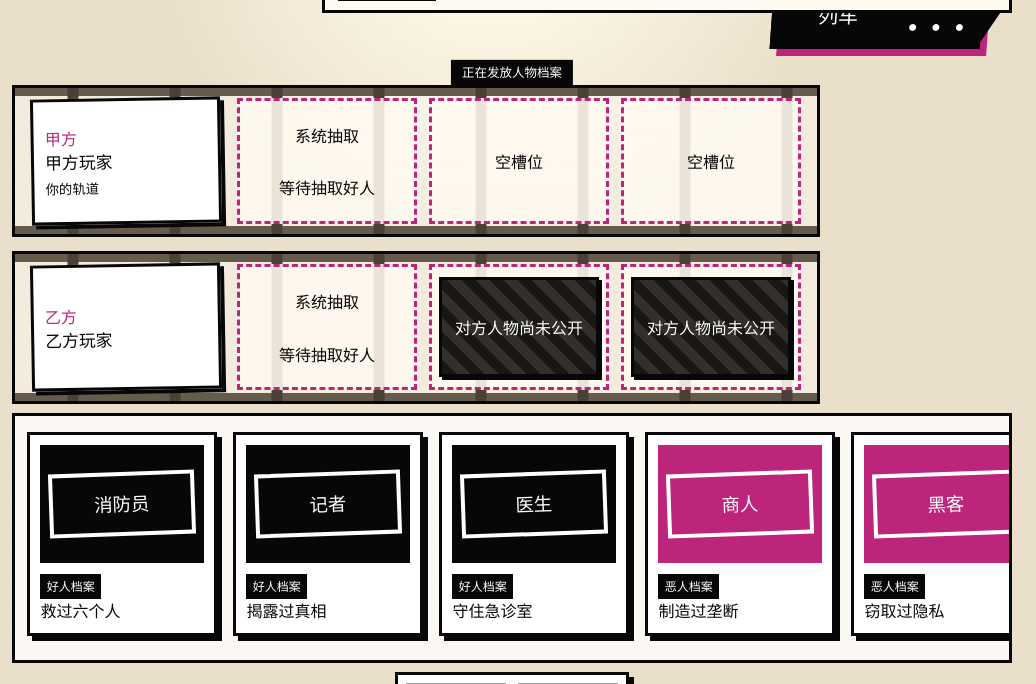
Test: selecting train stage › places a selected hand character with two clicks and exposes pressed state
The image size is (1036, 684).
(page scrolled)
Step 1. Click the button "消防员 好人档案 救过六个人" → click(122, 534), box top-left (27, 432), bottom-right (217, 636)
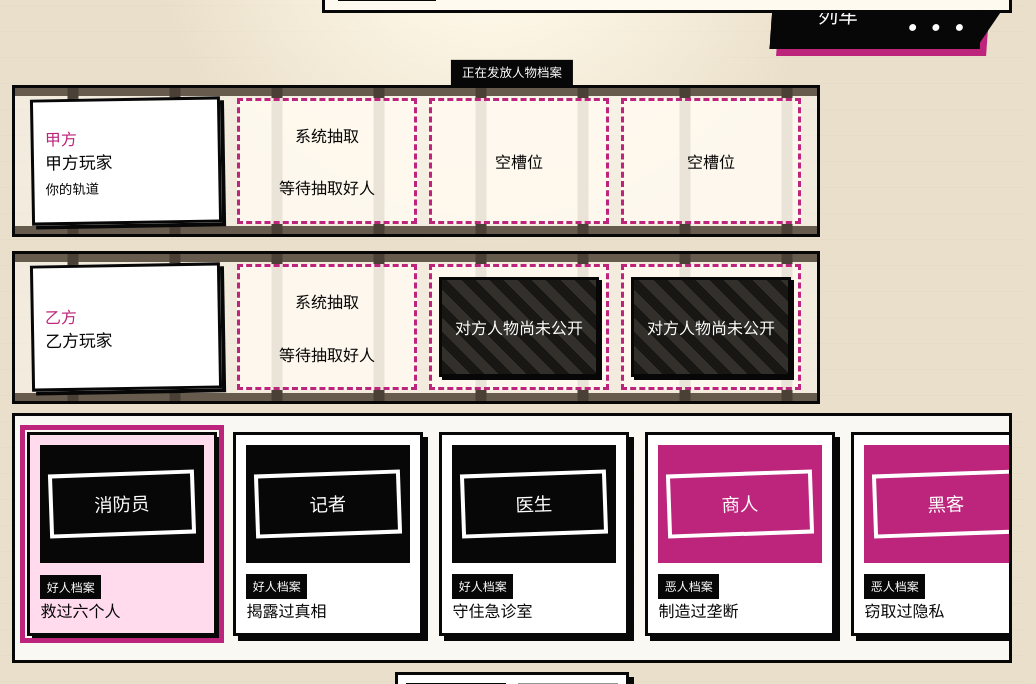
Result: the button "消防员 好人档案 救过六个人" is pressed at top-left (27, 432), bottom-right (217, 636)
Step 2. Click the button with test id "mine-slot-0" → click(519, 161), box top-left (429, 98), bottom-right (609, 224)
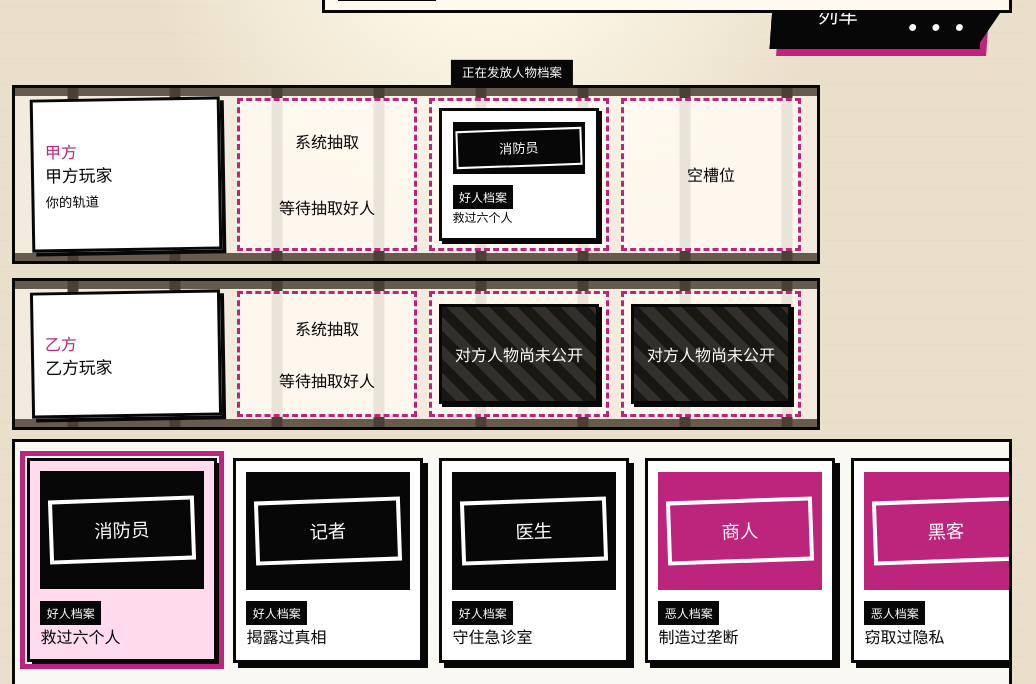
Result: the 1st text "消防员" is shown at top-left (456, 126), bottom-right (582, 169)
